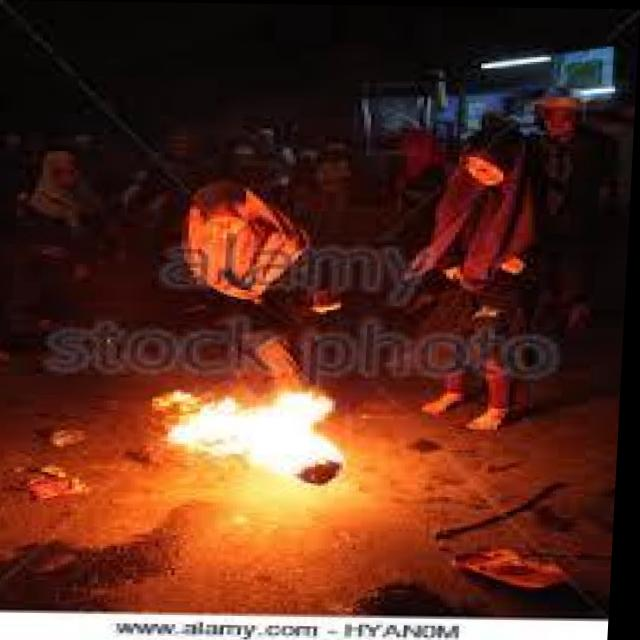fire: (143, 354, 380, 483)
